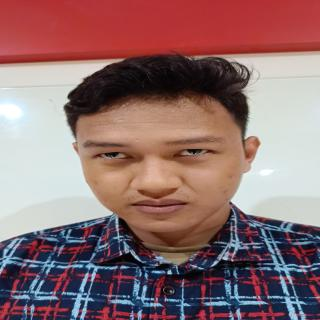Marah: (68, 90, 255, 240)
